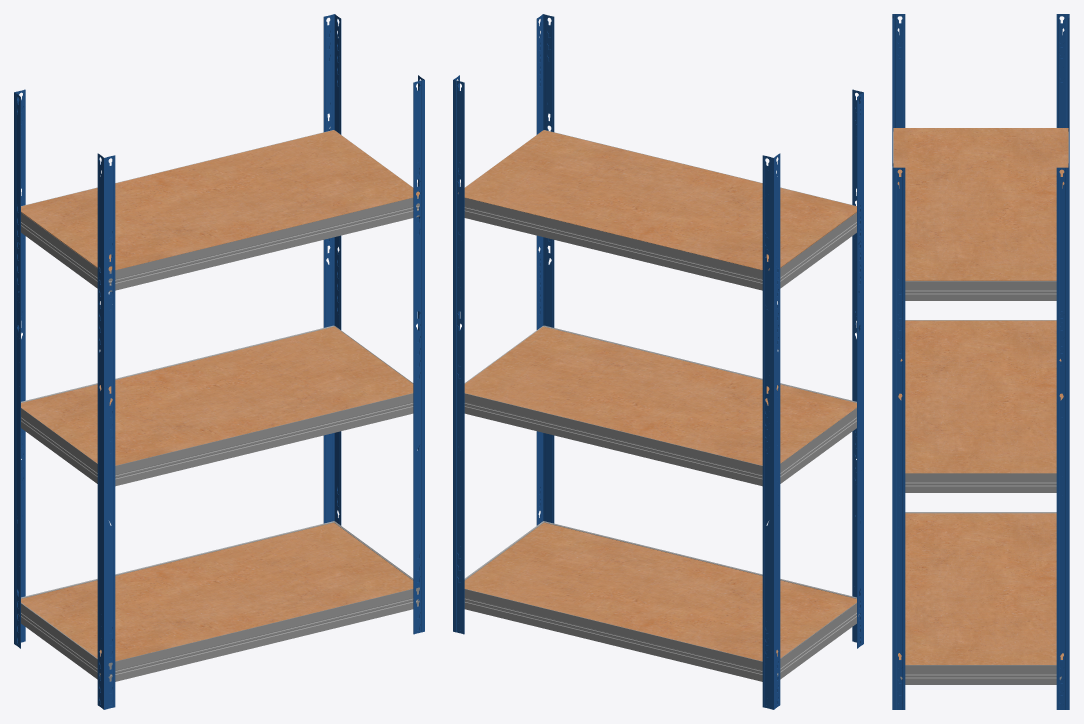
File: Rack.fbx
The picture shows the model from 3 angles, left to right: view 1: azimuth 30°, elevation 25°; view 2: azimuth 150°, elevation 25°; view 3: azimuth 270°, elevation 25°; orthographic projection.
Parts seen in each view (by area): view 1: fanera, 1 lp, 2 LP, 2 LP.002; view 2: fanera, 1 lp, 2 LP, 2 LP.002; view 3: fanera, 1 lp, 2 LP.002.
Part boxes in pixels (x1=…): fanera: x1=21, y1=130, x2=419, y2=661; 1 lp: x1=14, y1=14, x2=424, y2=709; 2 LP: x1=21, y1=130, x2=419, y2=681; 2 LP.002: x1=18, y1=131, x2=419, y2=679; fanera: x1=458, y1=130, x2=856, y2=661; 1 lp: x1=453, y1=14, x2=863, y2=709; 2 LP: x1=464, y1=130, x2=856, y2=681; 2 LP.002: x1=464, y1=131, x2=859, y2=679; fanera: x1=893, y1=128, x2=1068, y2=664; 1 lp: x1=892, y1=14, x2=1069, y2=709; 2 LP.002: x1=893, y1=128, x2=1068, y2=684.
Bounding box in the file's own units: 304 × 500 × 148.
3 materials, 1 textured.
